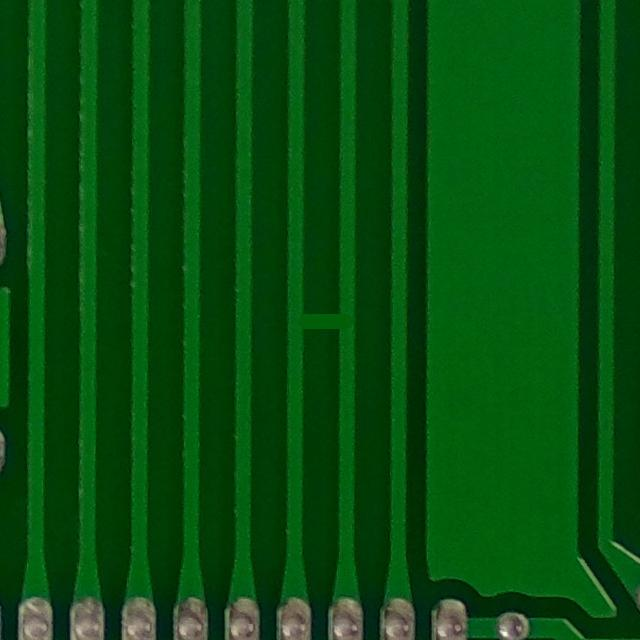short: (277, 286, 363, 355)
